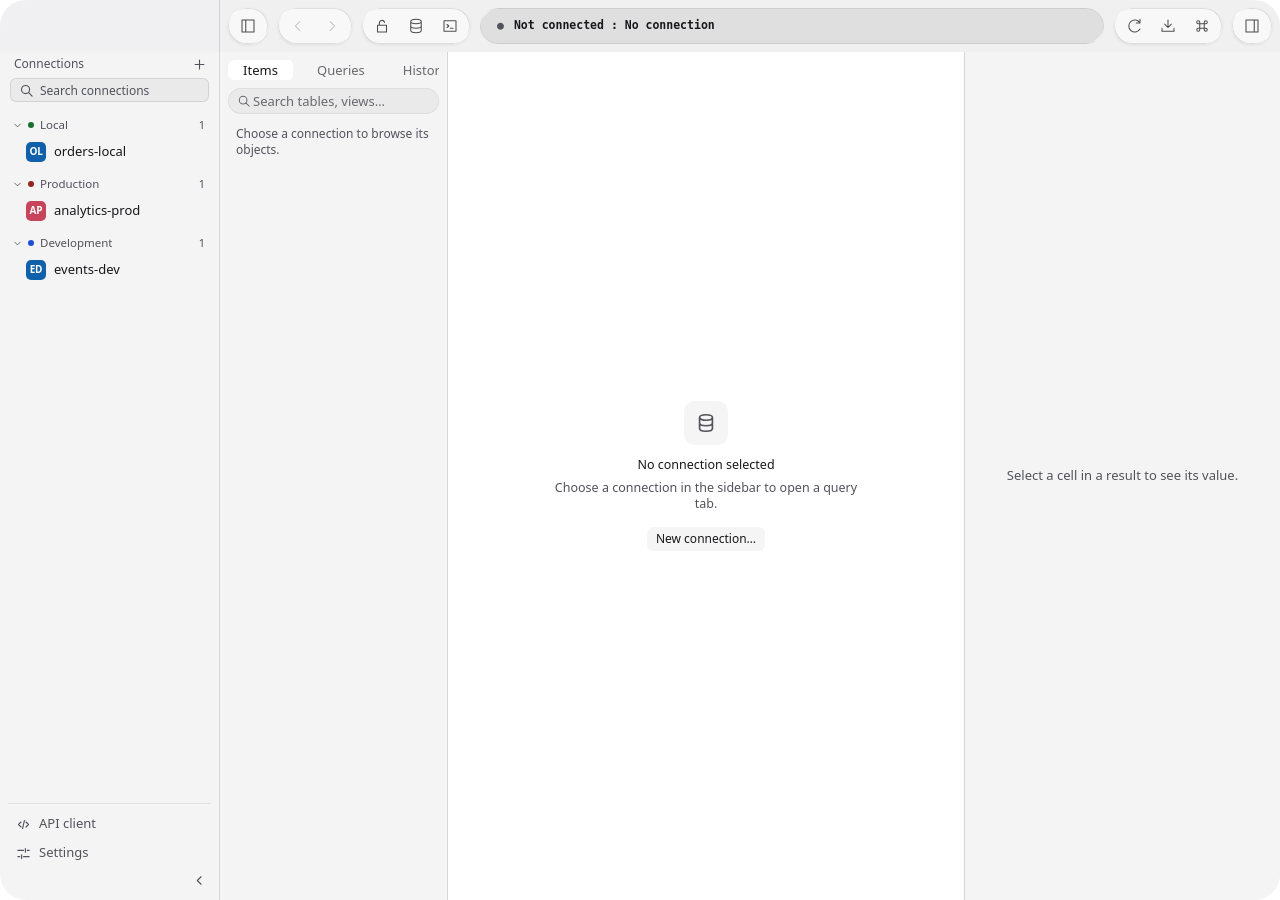
Test: loads tables at once and other sections only when expanded
This screenshot has width=1280, height=900.
Click the button with aria-label "Switch to orders-local" at [118, 152], box [26,138,211,166]
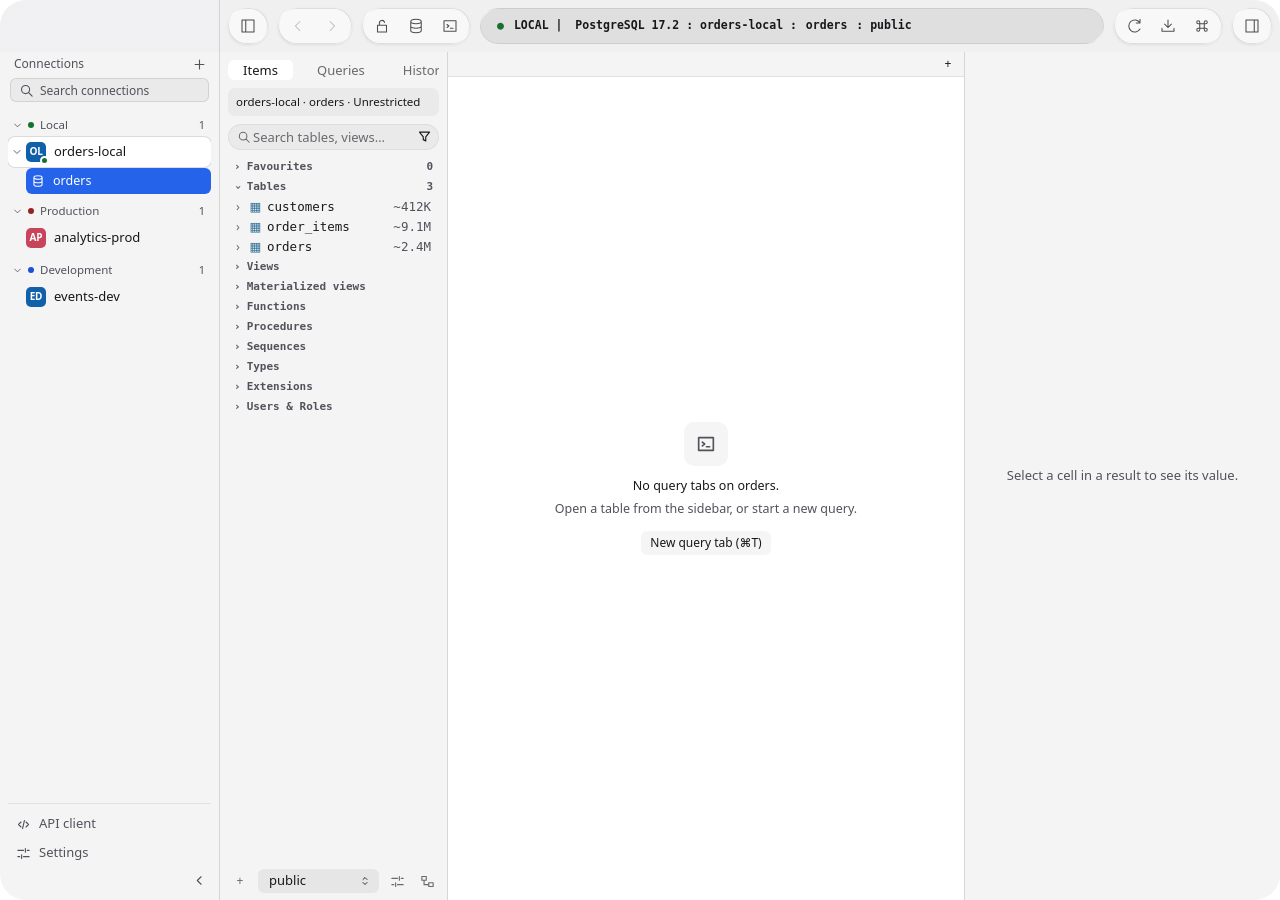
Expected: the button with aria-label "Database orders" is shown, [26,168,211,194]
Expected: the button "› Tables 3" is shown, [228,178,439,198]
Expected: the list item "orders ~2.4M" is shown, [228,238,439,258]
Click the button "› Views" at [334, 268], box [228,258,439,278]
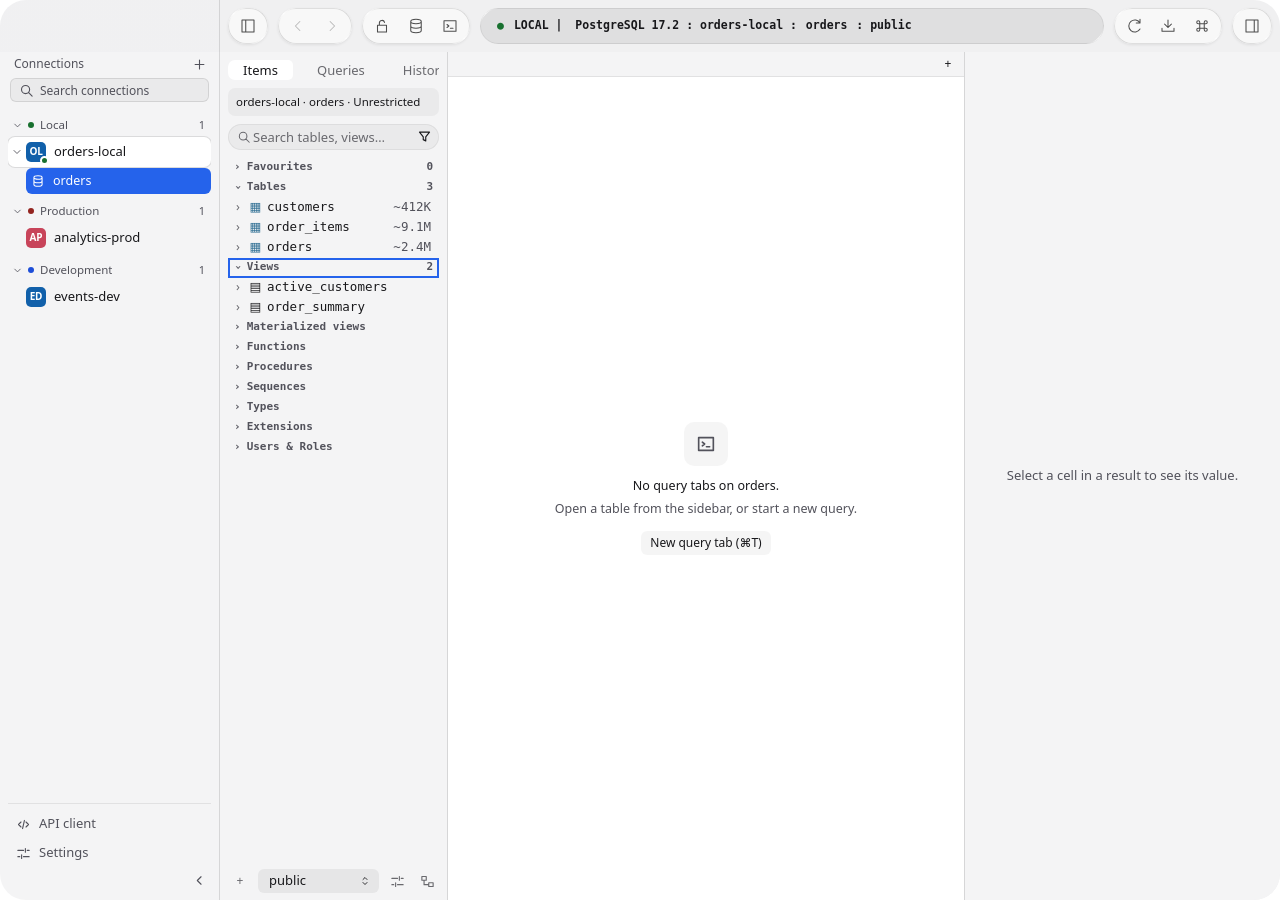
Expected: the list item "order_summary" is shown, [236,298,365,315]
Select "archive" in the dropdown named "Schema" at [318, 881], box [258,869,379,893]
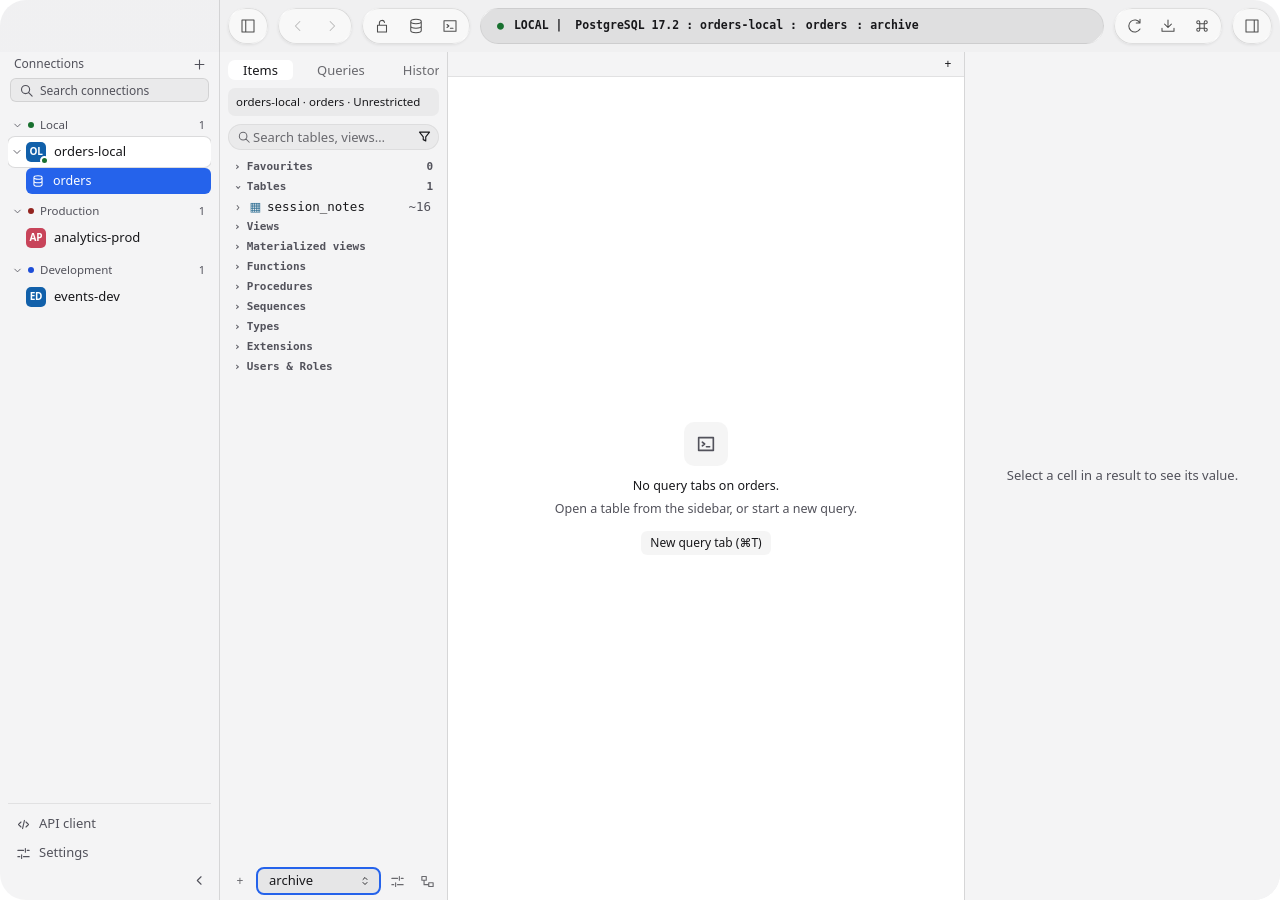
Expected: the list item "session_notes ~16" is shown, [228,198,439,218]
